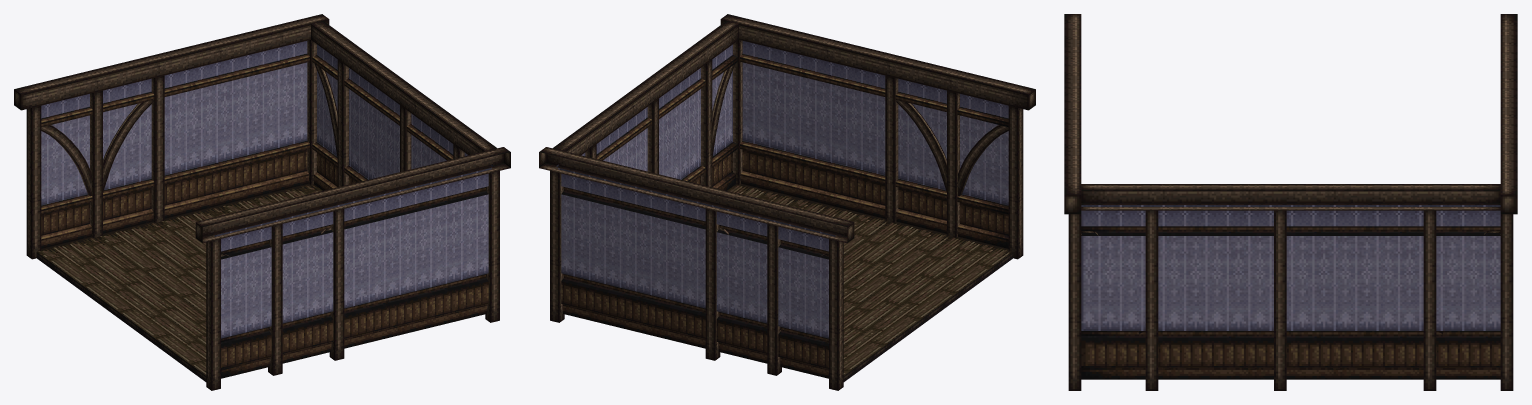
Rendered from EnvBdgMD_City_C_Indoor_Shop_Weapon.FBX.
The picture shows the model from 3 angles, left to right: view 1: azimuth 30°, elevation 25°; view 2: azimuth 150°, elevation 25°; view 3: azimuth 270°, elevation 25°; orthographic projection. The views are drawn at different scales.
Visible parts, largest first — view 1: EnvBdgMD_City_C_Indoor_Shop_Weapon; view 2: EnvBdgMD_City_C_Indoor_Shop_Weapon; view 3: EnvBdgMD_City_C_Indoor_Shop_Weapon.
Part boxes in pixels (<box>): EnvBdgMD_City_C_Indoor_Shop_Weapon: <box>14,14,510,390</box>; EnvBdgMD_City_C_Indoor_Shop_Weapon: <box>539,14,1035,390</box>; EnvBdgMD_City_C_Indoor_Shop_Weapon: <box>1064,14,1517,390</box>.
Size of the model in its own units: 1000 by 520 by 1060.
